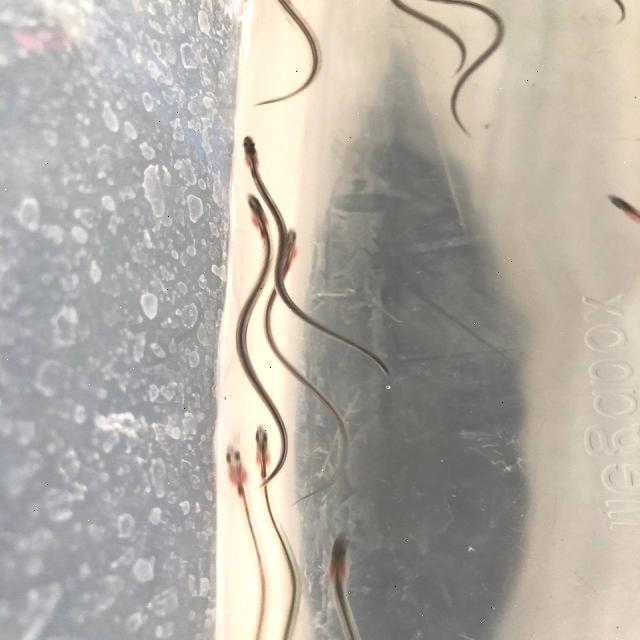glass_eel: (208, 435, 258, 497), (246, 422, 292, 480), (226, 127, 272, 175), (316, 524, 366, 568), (588, 190, 640, 232), (236, 190, 276, 228), (275, 223, 317, 259)
